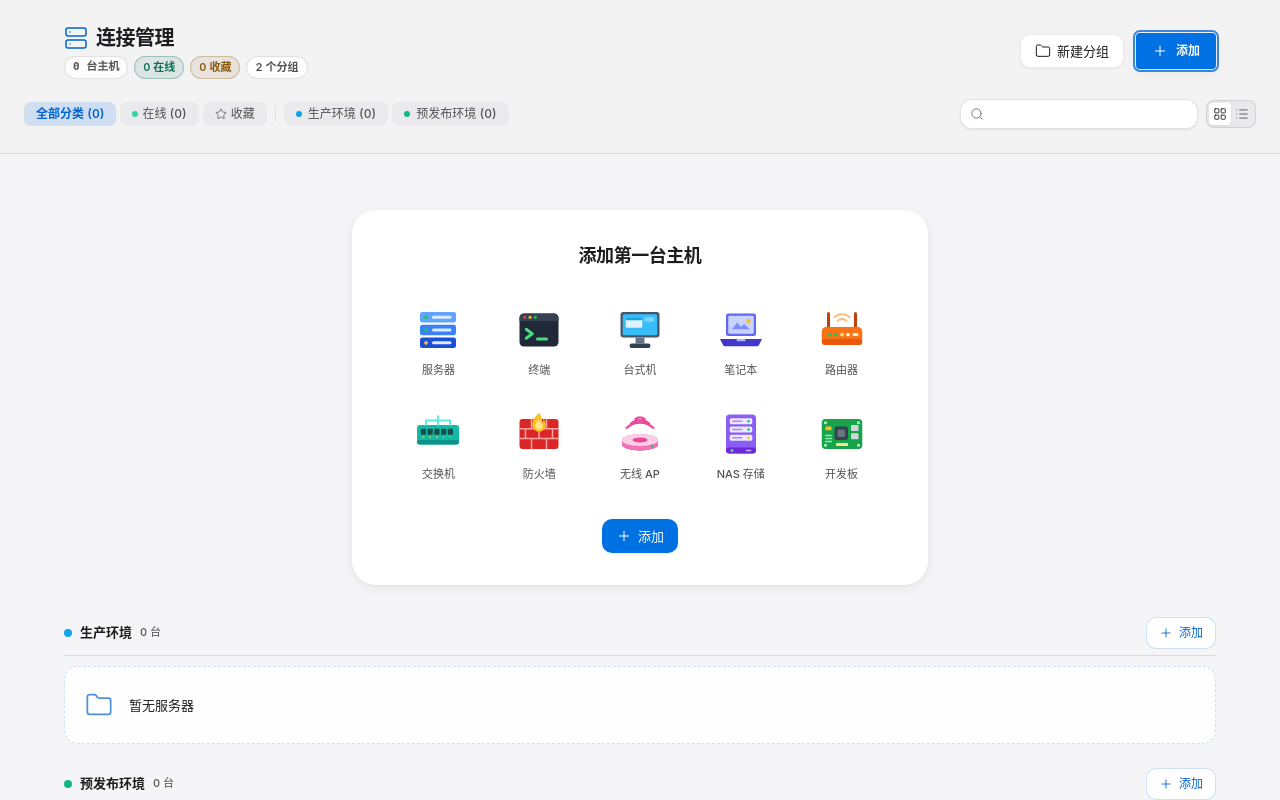
home group entry points › hands focus to the dedicated form after selecting a protocol
The image size is (1280, 800).
Click the button "添加" in the row of "个分组".
click(1176, 51)  # box [1136,33,1216,69]
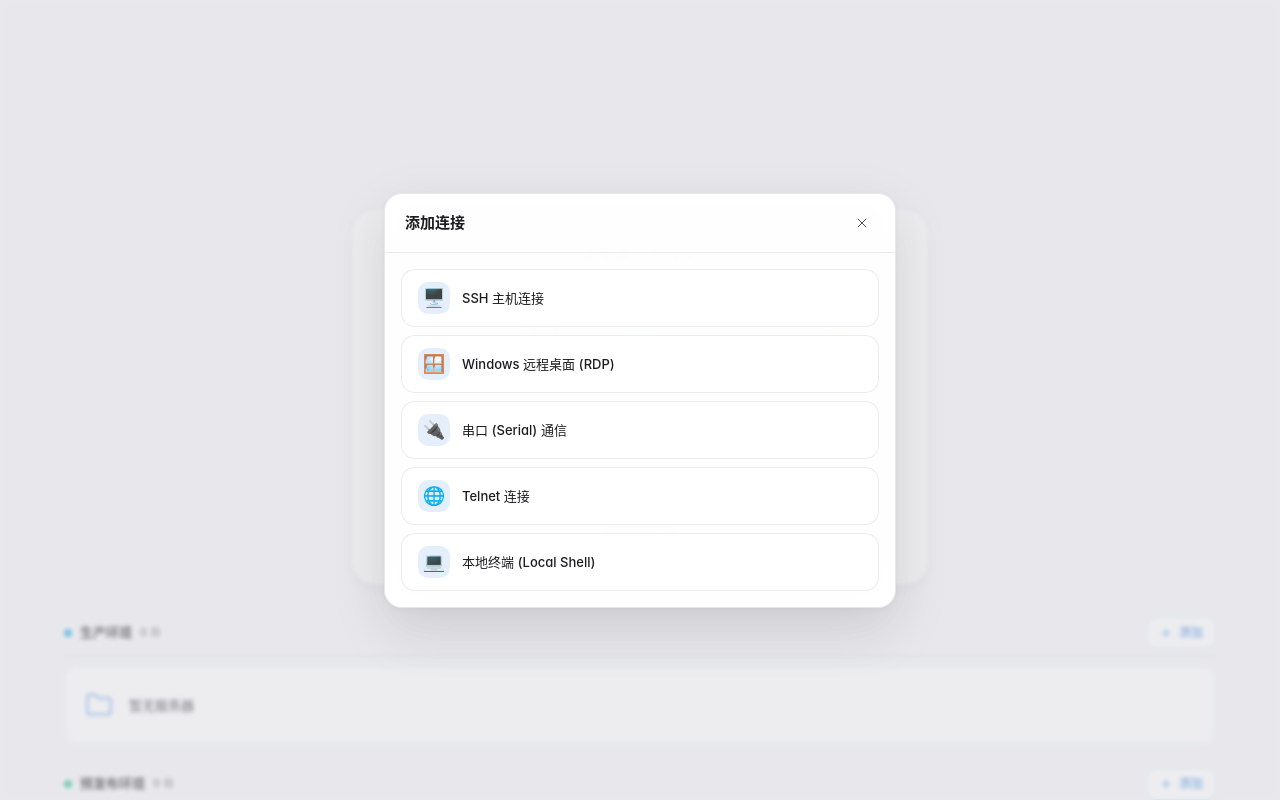
Click the button "🖥️ SSH 主机连接".
click(434, 298)  # box [401,268,879,326]
(page scrolled)
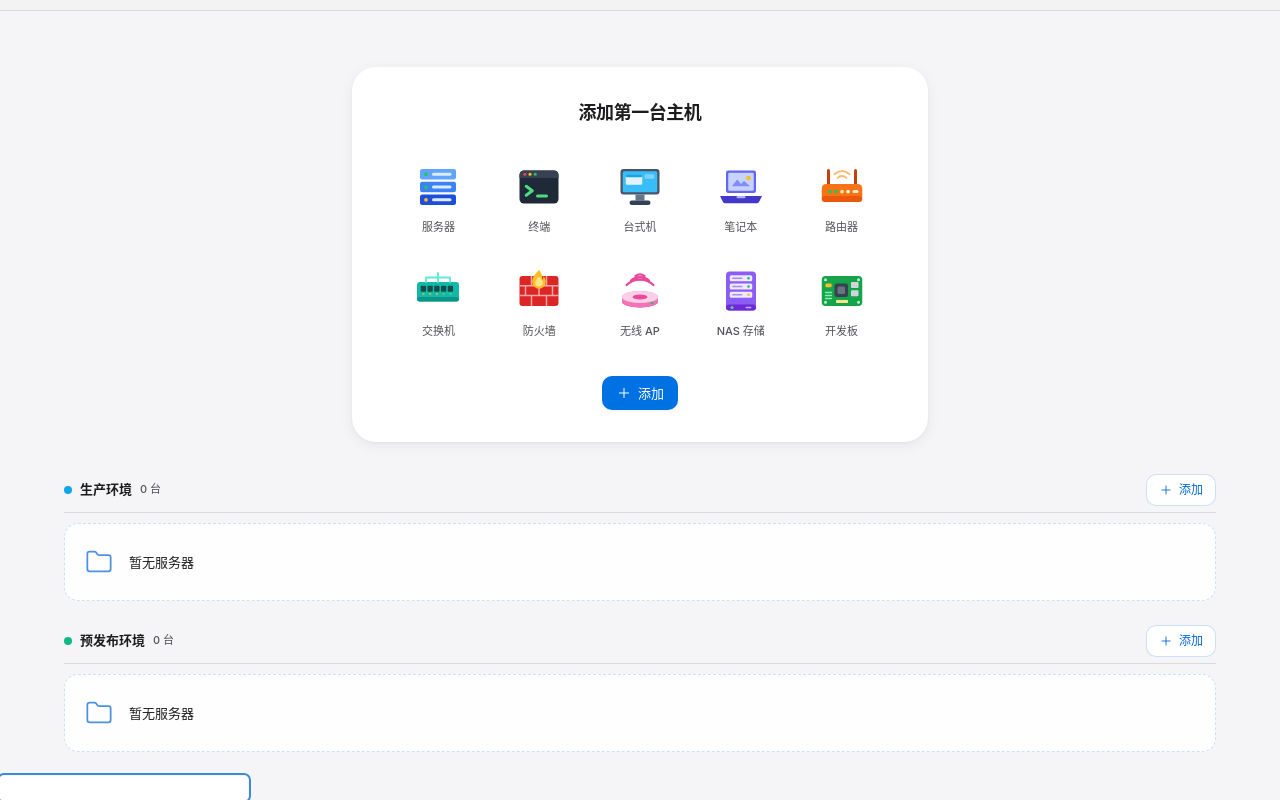
expect the dialog named "添加连接" is gone: met
